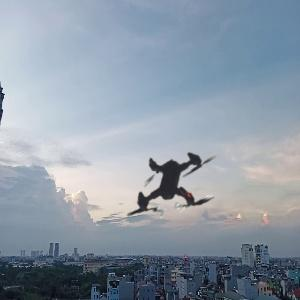drone: (97, 111, 249, 263)
